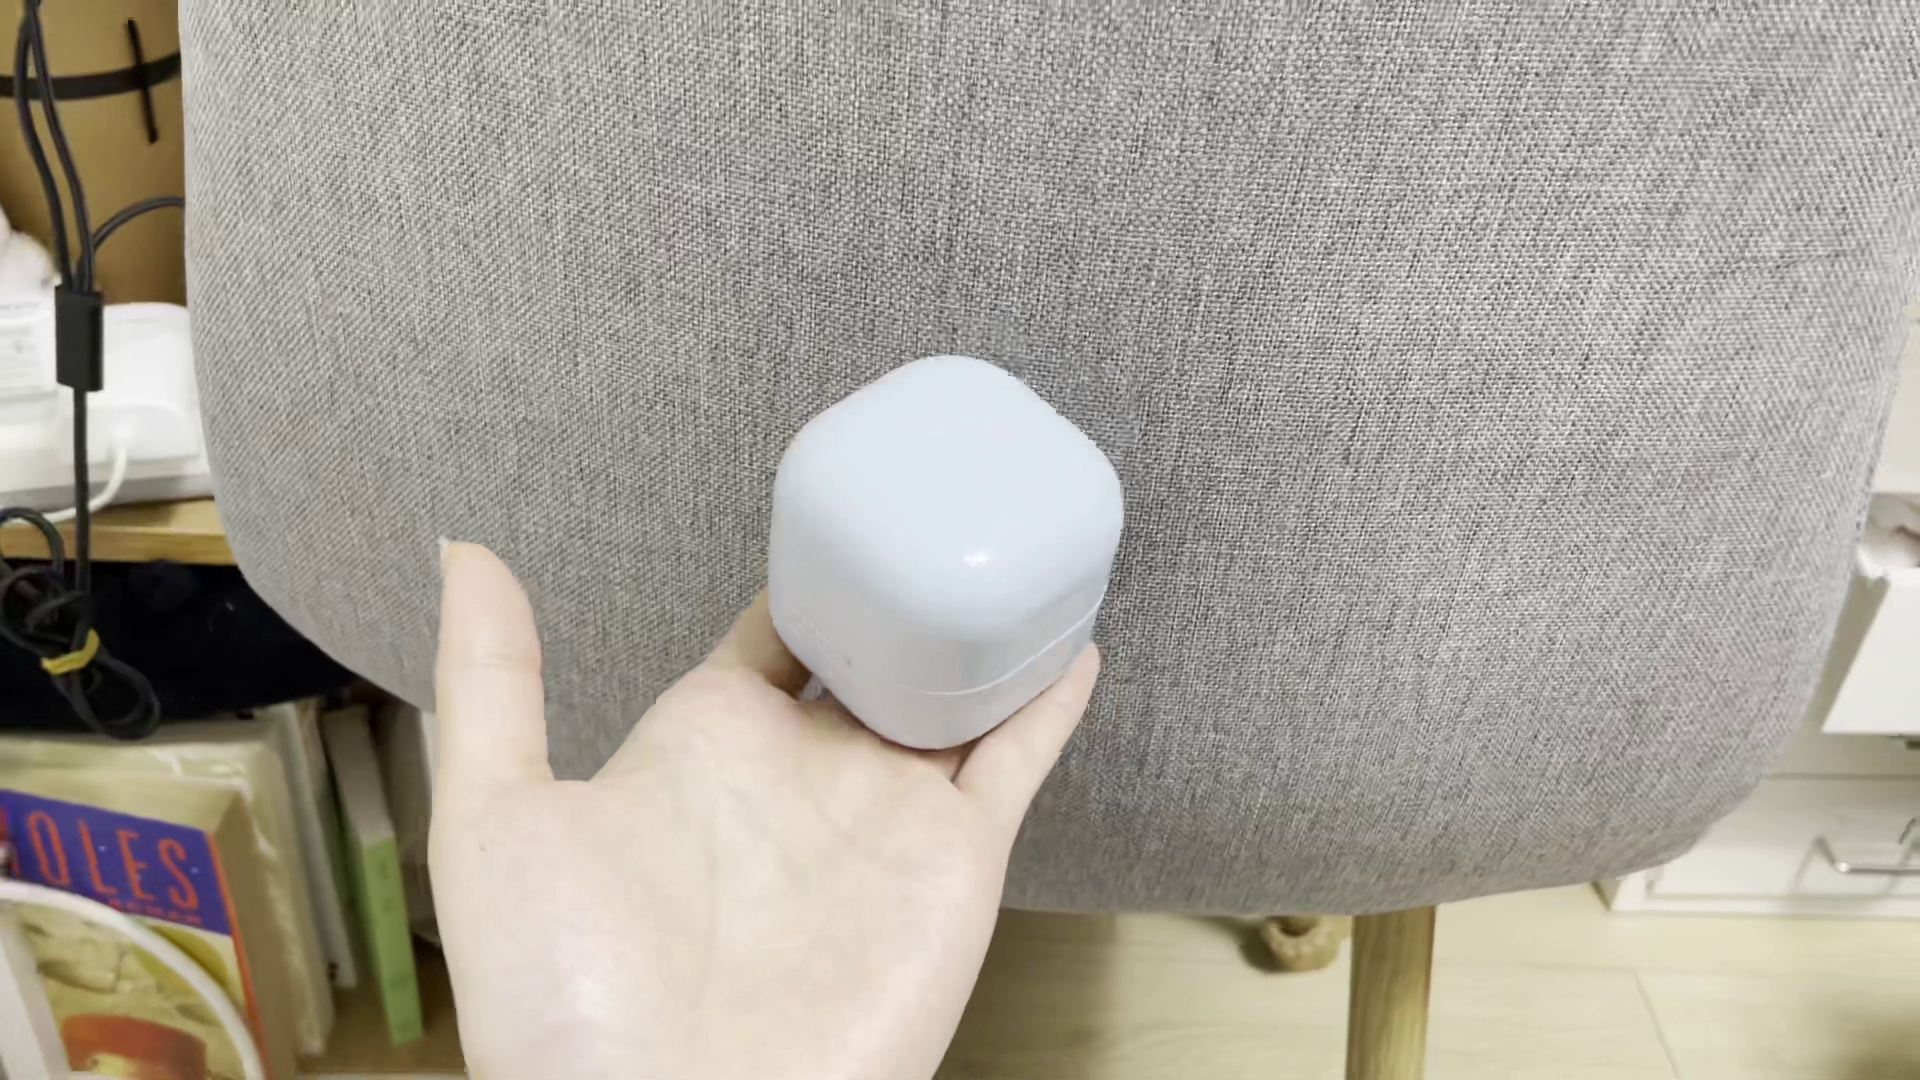cream: (771, 353, 1120, 746)
